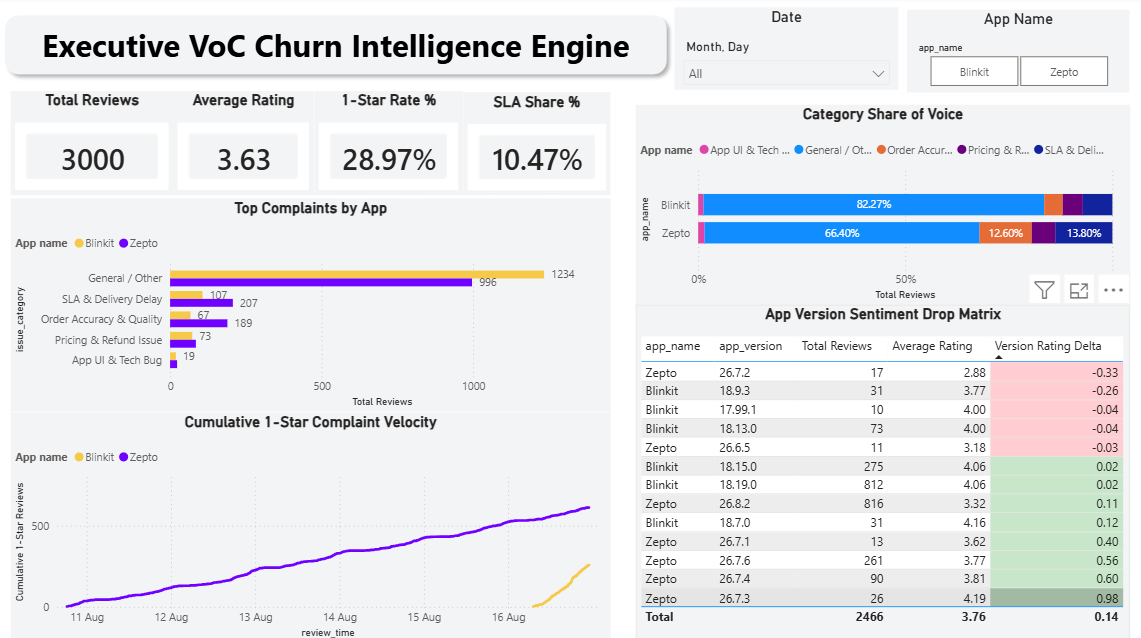

Layout of this report page (visuals, bound fields, positions):
{"tool":"powerbi","page":{"name":"Page 1","canvas":[1280,720],"ordinal":0},"visuals":[{"type":"slicer","title":"App Name","fields":{"Values":["dim_apps.app_name"]},"box":[1014.9,14.7,248.4,91.9],"z":0},{"type":"shape","title":"Executive VoC Churn Intelligence Engine","box":[0,13.2,755.3,83.6],"z":1000},{"type":"slicer","title":"Date","fields":{"Values":["fact_reviews.review_time.Variation.Date Hierarchy.Month","fact_reviews.review_time.Variation.Date Hierarchy.Day"]},"box":[755.3,13.2,249.7,91.9],"z":2000},{"type":"cardVisual","title":"Total Reviews","fields":{"Data":["Measures (2).Total Reviews"]},"box":[14.7,105.6,181.9,115.9],"z":3000},{"type":"cardVisual","title":"Average Rating","fields":{"Data":["Measures (2).Average Rating"]},"box":[196.5,105.6,156.9,115.9],"z":4000},{"type":"cardVisual","title":"1-Star Rate %","fields":{"Data":["Measures (2).1-Star Rate %"]},"box":[353.4,105.6,165.7,115.9],"z":5000},{"type":"cardVisual","title":"SLA Share %","fields":{"Data":["Measures (2).SLA Share %"]},"box":[519.2,107.1,164.3,114.4],"z":6000},{"type":"clusteredBarChart","title":"Top Complaints by App","fields":{"Category":["dim_categories.issue_category"],"Y":["Measures (2).Total Reviews"],"Series":["dim_apps.app_name"]},"box":[14.7,225.8,668.7,237.6],"z":7000},{"type":"hundredPercentStackedBarChart","title":"Category Share of Voice","fields":{"Y":["Measures (2).Total Reviews"],"Category":["dim_apps.app_name"],"Series":["dim_categories.issue_category"]},"box":[711.3,121.7,551.4,222.9],"z":8000},{"type":"lineChart","title":"Cumulative 1-Star Complaint Velocity","fields":{"Series":["dim_apps.app_name"],"Category":["fact_reviews.review_time"],"Y":["Measures (2).Cumulative 1-Star Reviews"]},"box":[14.7,463.4,668.7,256.6],"z":9000},{"type":"tableEx","title":"App Version Sentiment Drop Matrix","fields":{"Values":["dim_apps.app_name","fact_reviews.app_version","Measures (2).Total Reviews","Measures (2).Average Rating","Measures (2).Version Rating Delta"]},"box":[711.3,344.6,551.4,375.4],"z":11001}]}

Visuals, with their boxes in screenshot pixels (x1, y1, x2, y2), scaled from the page's 1280x720 canvas onto the 1141x638 screenshot:
"App Name" slicer: 905 13 1126 94
"Executive VoC Churn Intelligence Engine" shape: 0 12 673 86
"Date" slicer: 673 12 896 93
"Total Reviews" cardVisual: 13 94 175 196
"Average Rating" cardVisual: 175 94 315 196
"1-Star Rate %" cardVisual: 315 94 463 196
"SLA Share %" cardVisual: 463 95 609 196
"Top Complaints by App" clusteredBarChart: 13 200 609 411
"Category Share of Voice" hundredPercentStackedBarChart: 634 108 1126 305
"Cumulative 1-Star Complaint Velocity" lineChart: 13 411 609 637
"App Version Sentiment Drop Matrix" tableEx: 634 305 1126 637
